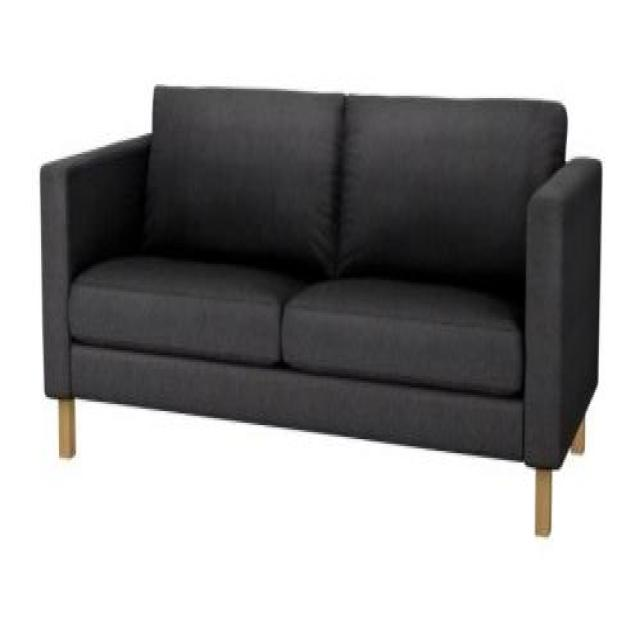sofa: (38, 82, 603, 535)
